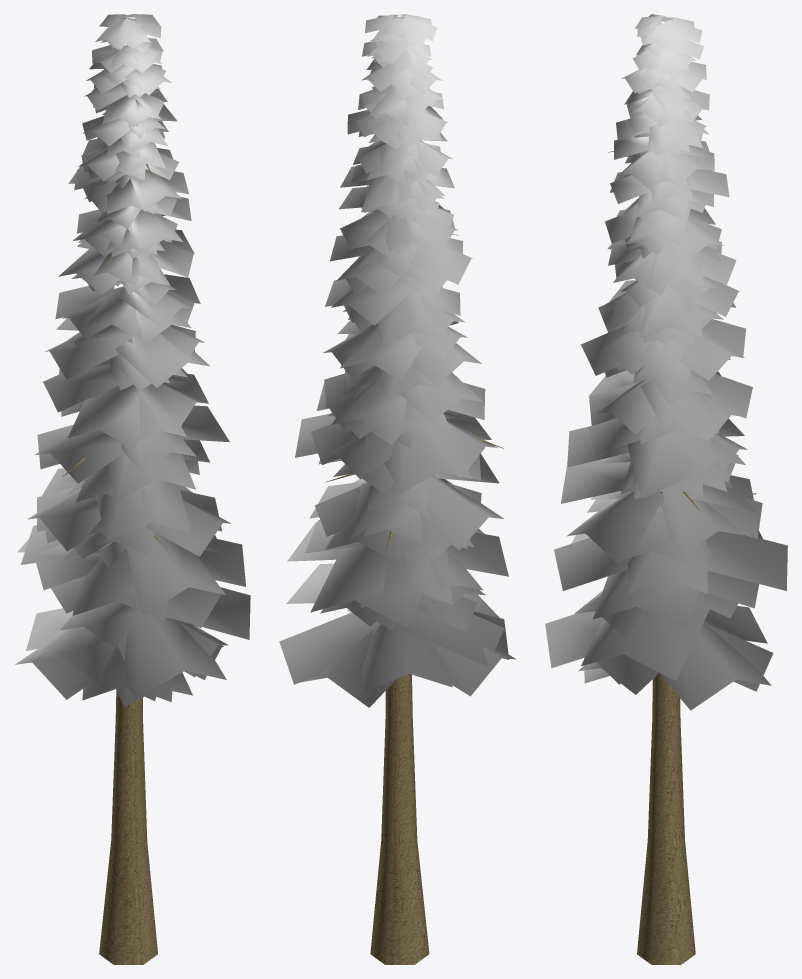
File: pine_02_LOD0.fbx
3 renders of one model, left to right at view 1: azimuth 30°, elevation 25°; view 2: azimuth 150°, elevation 25°; view 3: azimuth 270°, elevation 25°, orthographic.
Parts seen in each view (by area): view 1: pine_02_LOD0; view 2: pine_02_LOD0; view 3: pine_02_LOD0.
Boxes of the visible parts, bbox=[...] form: pine_02_LOD0: bbox=[15, 14, 250, 964]; pine_02_LOD0: bbox=[279, 14, 516, 964]; pine_02_LOD0: bbox=[545, 14, 787, 964].
Bounding box in the file's own units: 377 × 1624 × 382.
